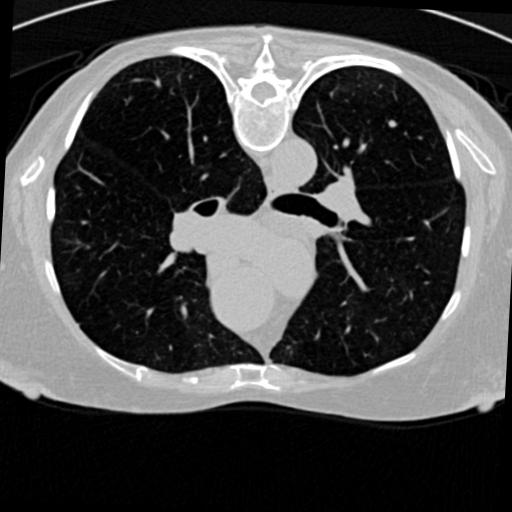nodule: (384, 118, 399, 133)
